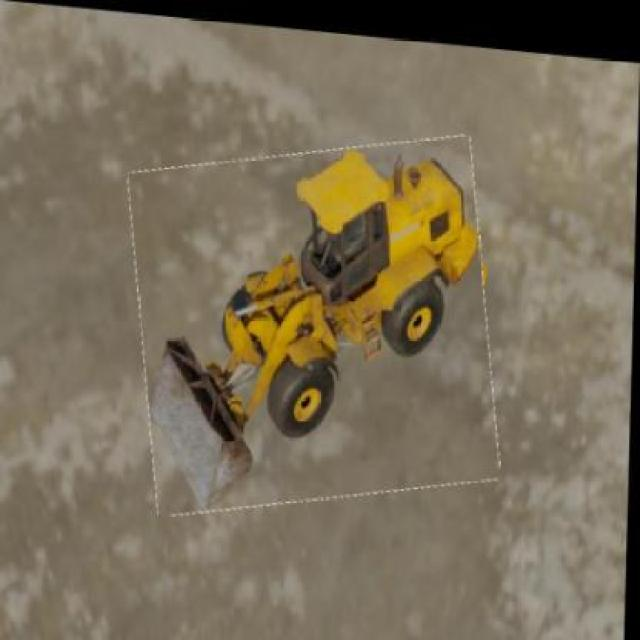buldozerpayloadergrader: (152, 150, 479, 510)
